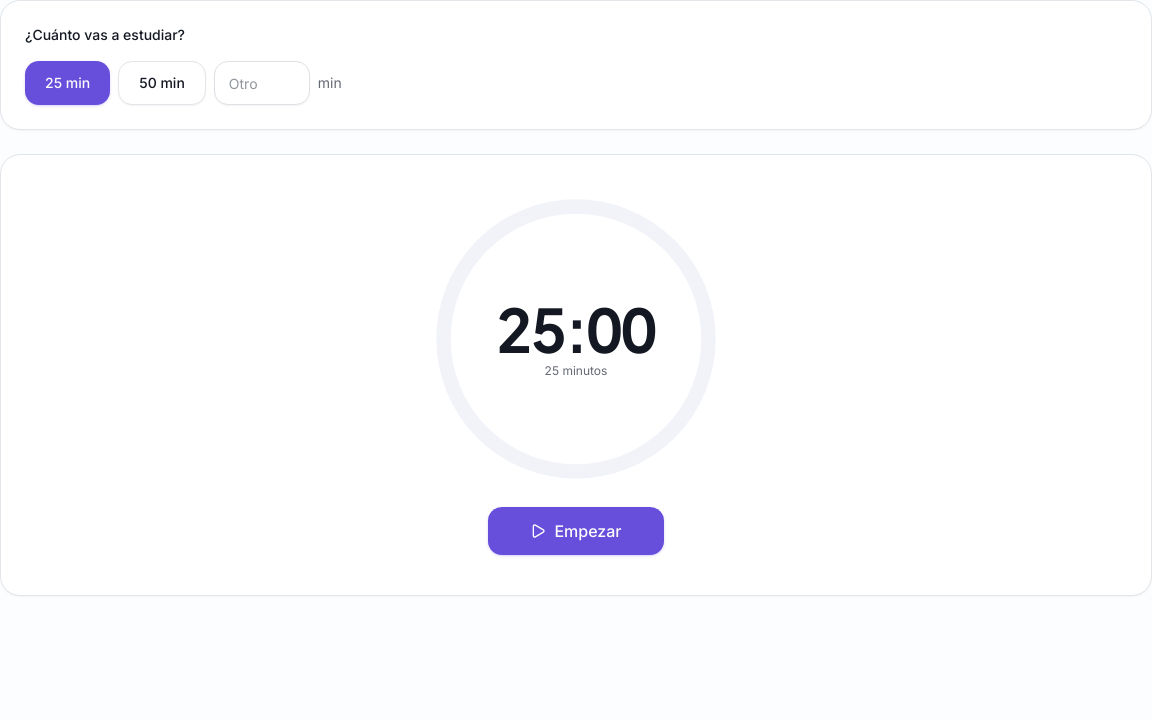
it: <FocusTimer /> › el aviso antes de terminar refleja el tiempo real, no el transcurrido
Click the button "Empezar" at (576, 531), box left=488, top=507, right=664, bottom=555
Wait 120000 ms
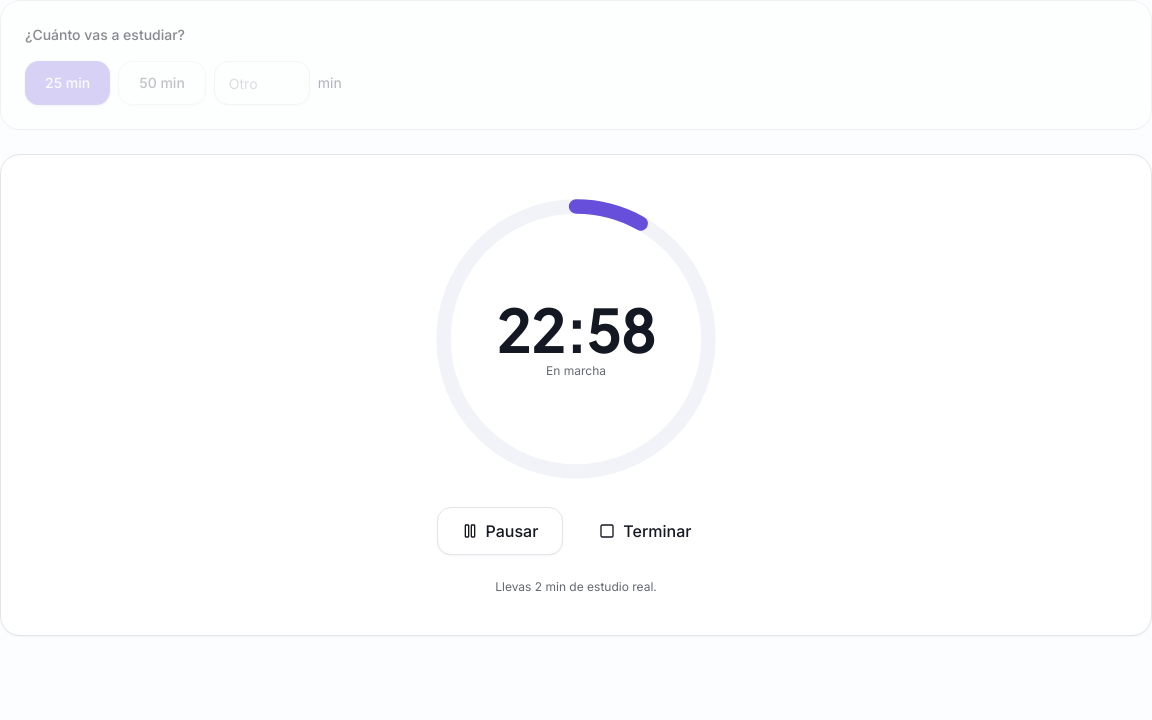
Click the button "Pausar" at (500, 531), box left=436, top=507, right=563, bottom=555
Wait 600000 ms
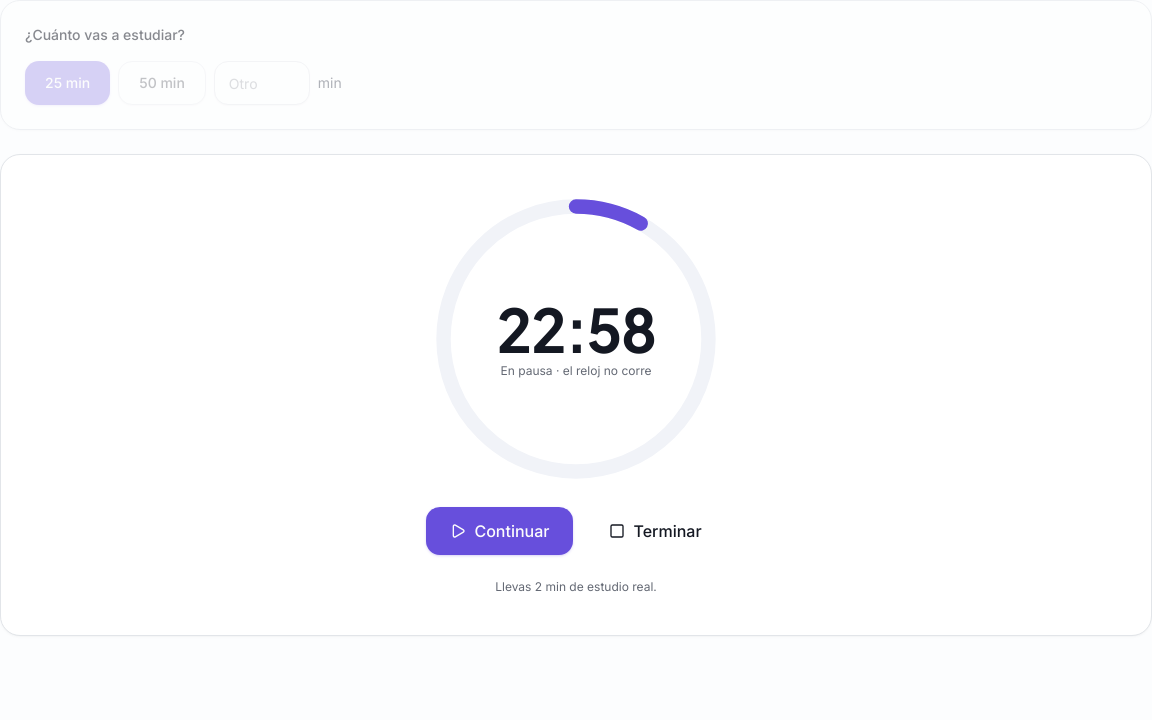
Click the button "Terminar" at (655, 531), box left=585, top=507, right=726, bottom=555
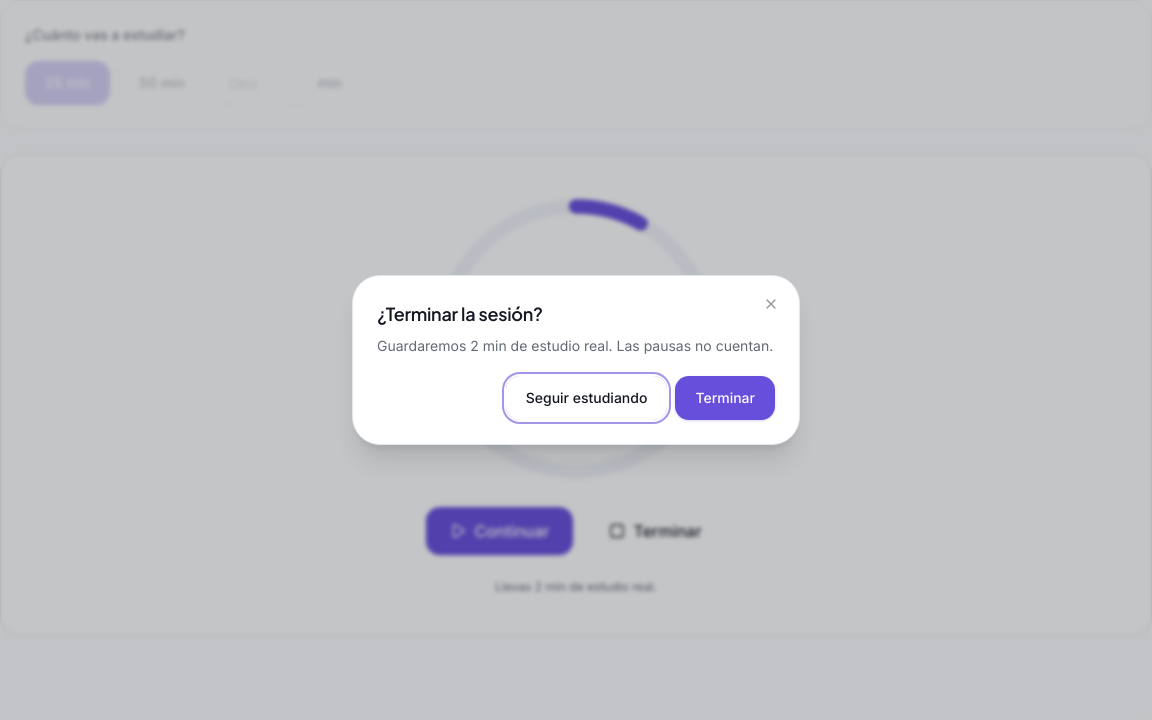
Now the text "Guardaremos 2 min de estudio real. Las pausas no cuentan." is shown, box left=377, top=336, right=775, bottom=356
